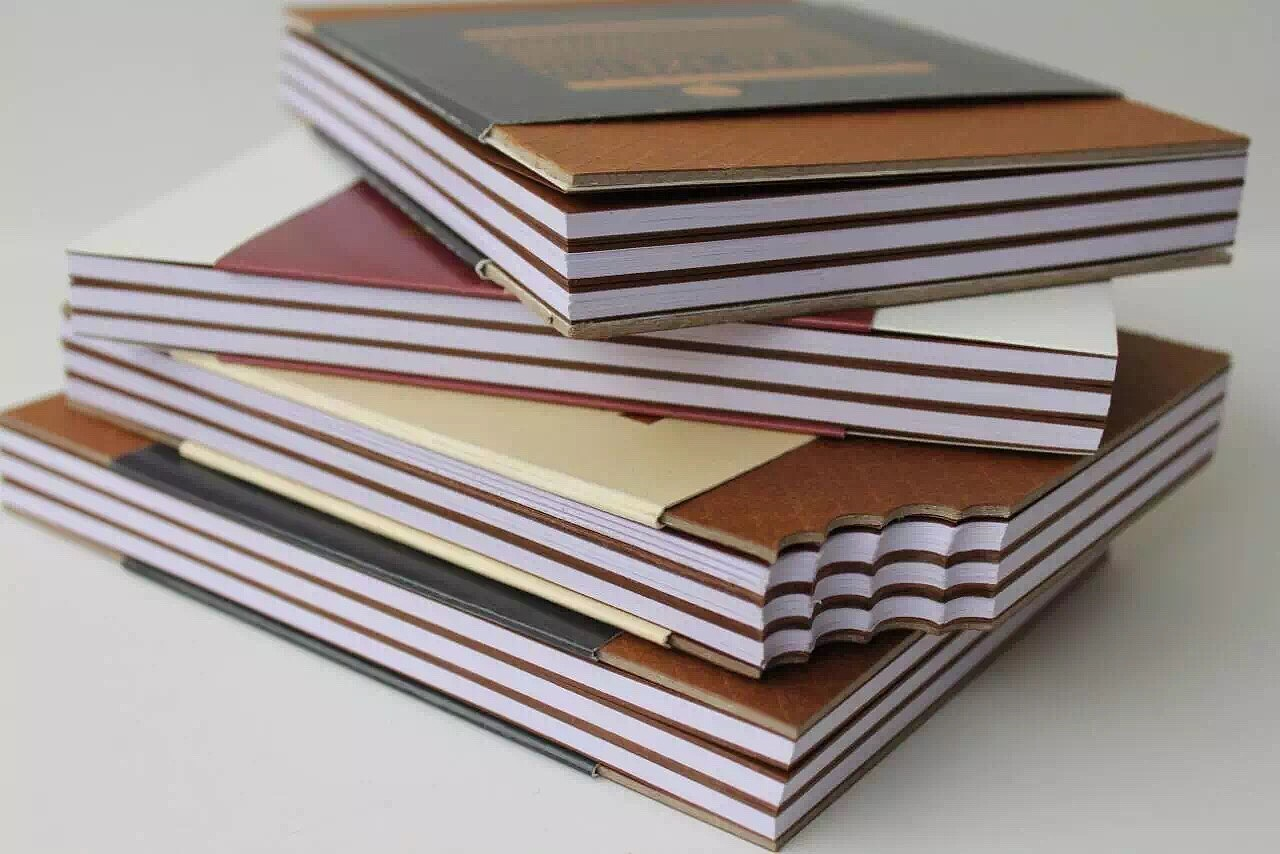book: (2, 360, 1116, 851), (35, 306, 1230, 665), (71, 118, 1137, 466), (270, 3, 1256, 319)
